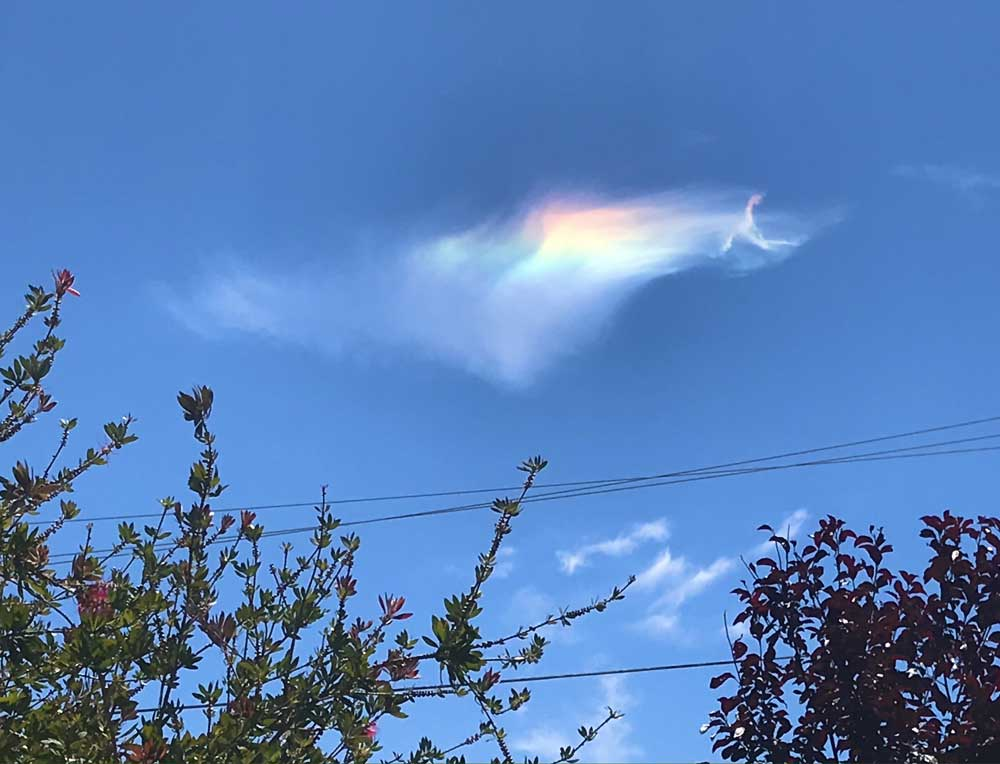Cirrus: (183, 114, 870, 404)
